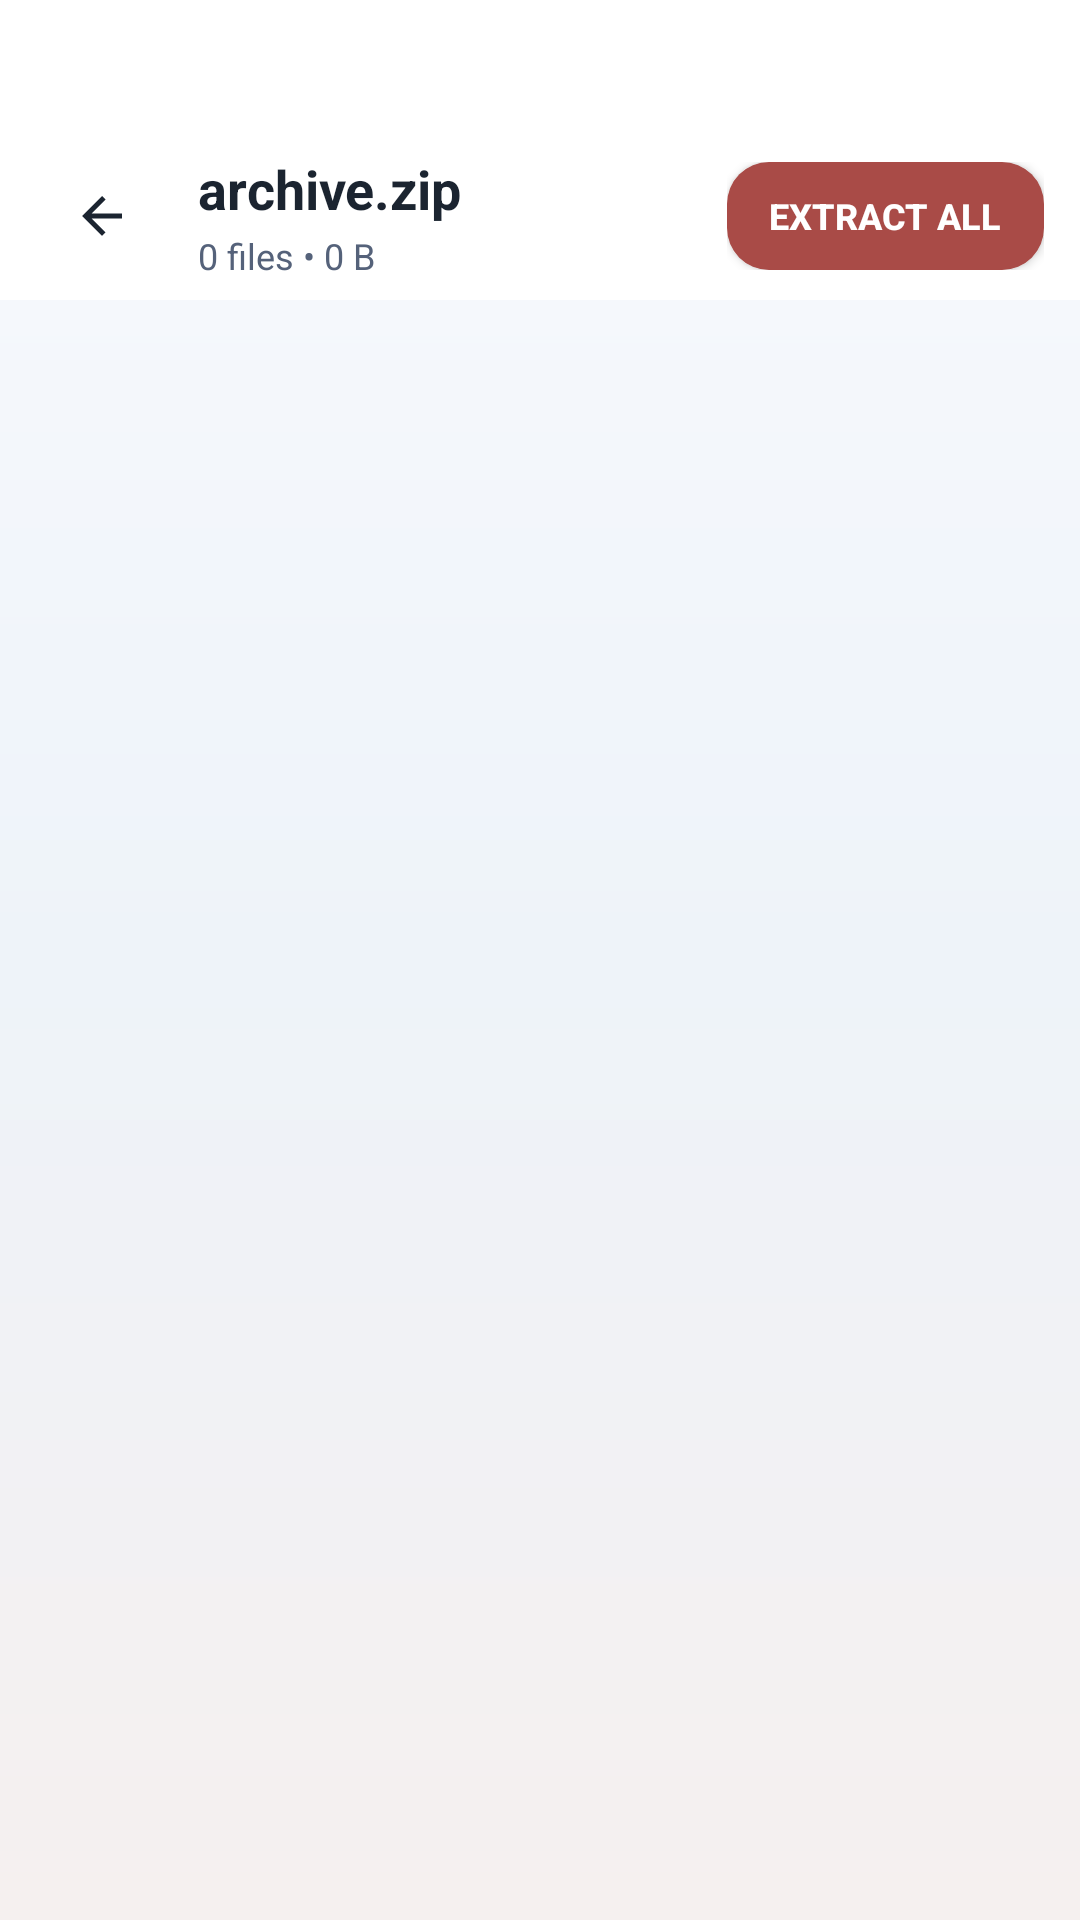

Screen size 1080 x 1920. Icon name, then its center in pixels as (x=x, y=y):
Back: (x=102, y=216)
